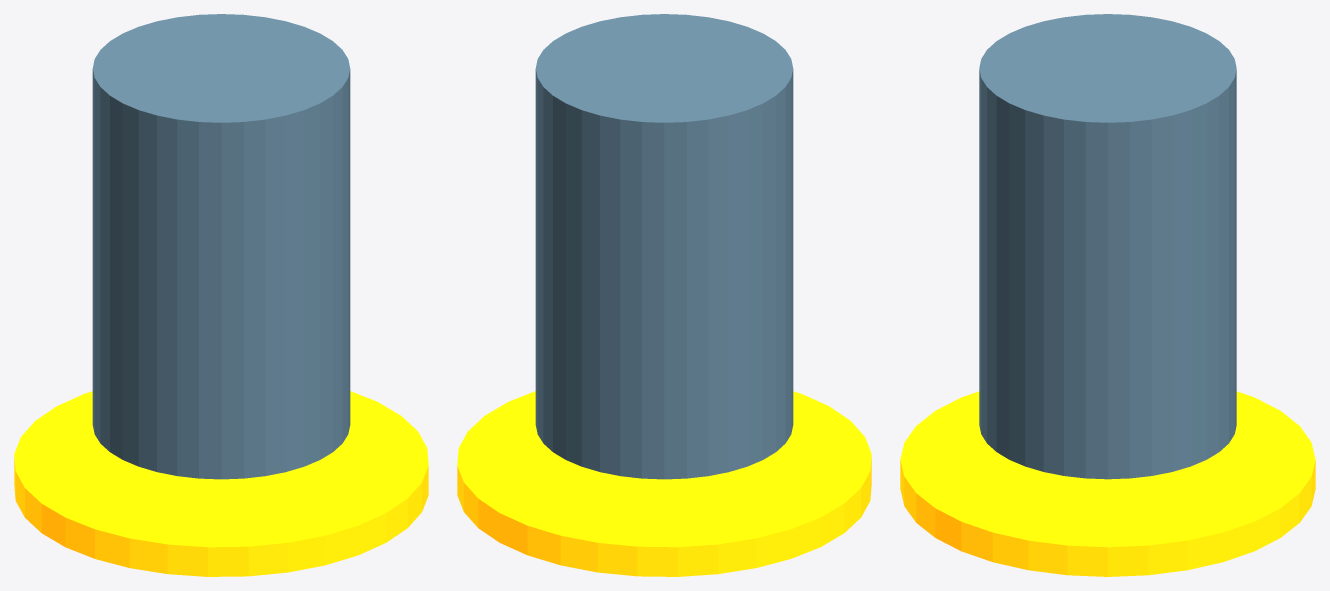
The model's file is spanish_sangria.glb.
3 renders of one model, left to right at view 1: azimuth 30°, elevation 25°; view 2: azimuth 150°, elevation 25°; view 3: azimuth 270°, elevation 25°, orthographic.
Visible parts, largest first — view 1: 11_08_Popular_Spanish_Sangria_part_01, 11_08_Popular_Spanish_Sangria_ROOT_base; view 2: 11_08_Popular_Spanish_Sangria_part_01, 11_08_Popular_Spanish_Sangria_ROOT_base; view 3: 11_08_Popular_Spanish_Sangria_part_01, 11_08_Popular_Spanish_Sangria_ROOT_base.
Boxes of the visible parts, x1,y1,x2,y2 form: 11_08_Popular_Spanish_Sangria_part_01: (92, 14, 350, 479); 11_08_Popular_Spanish_Sangria_ROOT_base: (14, 391, 428, 576); 11_08_Popular_Spanish_Sangria_part_01: (535, 14, 793, 479); 11_08_Popular_Spanish_Sangria_ROOT_base: (457, 391, 871, 576); 11_08_Popular_Spanish_Sangria_part_01: (979, 14, 1236, 479); 11_08_Popular_Spanish_Sangria_ROOT_base: (900, 391, 1315, 576).
Size of the model in its own units: 0.76 by 0.85 by 0.76.
